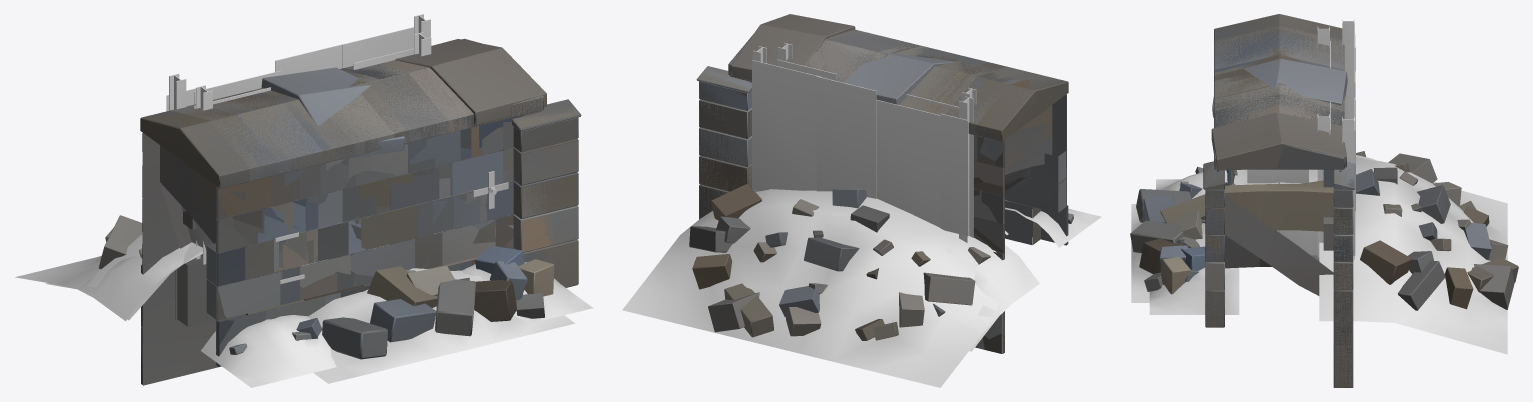
3 views of the same model, side by side, from view 1: azimuth 30°, elevation 25°; view 2: azimuth 150°, elevation 25°; view 3: azimuth 270°, elevation 25° (orthographic). The views are drawn at different scales.
Visible parts, largest first — view 1: PW_BW_coping_5p00_Stone_LOD1, PW_BW_breach_5p00_Stone_LOD1, PW_BW_collapse_5p00_Stone_LOD1, PW_BW_breach_5p00_Kit_LOD1, PW_BW_impact_5p00_sn_Stone_LOD1, PW_BW_fill_4p40_sn_Stone_LOD1, PW_BW_collapse_5p00_Kit_LOD1, PW_BW_fill_3p00_sn_Stone_LOD1, PW_BW_impact_5p00_Stone_LOD1, PW_BW_intact_b_5p00_Stone_LOD1, PW_BW_intact_a_5p00_Stone_LOD1, PW_BW_intact_c_5p00_Stone_LOD1 (+3 smaller); view 2: PW_BW_breach_5p00_Kit_LOD1, PW_BW_breach_5p00_Stone_LOD1, PW_BW_coping_5p00_Stone_LOD1, PW_BW_collapse_5p00_Stone_LOD1, PW_BW_collapse_5p00_Kit_LOD1, PW_BW_intact_a_5p00_Stone_LOD1, PW_BW_impact_5p00_Stone_LOD1, PW_BW_intact_c_5p00_Stone_LOD1, PW_BW_intact_b_5p00_Stone_LOD1, PW_BW_fill_4p40_sn_Stone_LOD1, PW_BW_fill_1p50_Stone_LOD1, PW_BW_impact_5p00_sn_Stone_LOD1 (+2 smaller); view 3: PW_BW_breach_5p00_Kit_LOD1, PW_BW_breach_5p00_Stone_LOD1, PW_BW_coping_5p00_Stone_LOD1, PW_BW_collapse_5p00_Stone_LOD1, PW_BW_impact_5p00_sn_Stone_LOD1, PW_BW_fill_1p50_Stone_LOD1, PW_BW_fill_4p40_sn_Stone_LOD1, PW_BW_impact_5p00_Stone_LOD1, PW_BW_repair_5p00_Stone_LOD1, PW_BW_collapse_5p00_Kit_LOD1, PW_BW_fill_3p00_sn_Stone_LOD1, PW_BW_intact_a_5p00_Stone_LOD1 (+2 smaller).
Boxes of the visible parts, left/top/right/bottom form: PW_BW_coping_5p00_Stone_LOD1: left=140, top=39, right=580, bottom=346; PW_BW_breach_5p00_Stone_LOD1: left=138, top=108, right=579, bottom=385; PW_BW_collapse_5p00_Stone_LOD1: left=98, top=110, right=578, bottom=366; PW_BW_breach_5p00_Kit_LOD1: left=15, top=14, right=593, bottom=387; PW_BW_impact_5p00_sn_Stone_LOD1: left=141, top=41, right=541, bottom=366; PW_BW_fill_4p40_sn_Stone_LOD1: left=222, top=39, right=543, bottom=311; PW_BW_collapse_5p00_Kit_LOD1: left=45, top=32, right=574, bottom=383; PW_BW_fill_3p00_sn_Stone_LOD1: left=330, top=40, right=542, bottom=260; PW_BW_impact_5p00_Stone_LOD1: left=142, top=40, right=577, bottom=366; PW_BW_intact_b_5p00_Stone_LOD1: left=141, top=40, right=578, bottom=377; PW_BW_intact_a_5p00_Stone_LOD1: left=142, top=65, right=578, bottom=353; PW_BW_intact_c_5p00_Stone_LOD1: left=142, top=75, right=543, bottom=335; PW_BW_breach_5p00_Kit_LOD1: left=622, top=46, right=1101, bottom=387; PW_BW_breach_5p00_Stone_LOD1: left=689, top=66, right=1073, bottom=352; PW_BW_coping_5p00_Stone_LOD1: left=699, top=14, right=1068, bottom=328; PW_BW_collapse_5p00_Stone_LOD1: left=696, top=66, right=1067, bottom=327; PW_BW_collapse_5p00_Kit_LOD1: left=777, top=43, right=1039, bottom=351; PW_BW_intact_a_5p00_Stone_LOD1: left=699, top=31, right=1049, bottom=229; PW_BW_impact_5p00_Stone_LOD1: left=699, top=38, right=1067, bottom=353; PW_BW_intact_c_5p00_Stone_LOD1: left=811, top=40, right=1066, bottom=353; PW_BW_intact_b_5p00_Stone_LOD1: left=701, top=39, right=1067, bottom=353; PW_BW_fill_4p40_sn_Stone_LOD1: left=729, top=30, right=1032, bottom=236; PW_BW_fill_1p50_Stone_LOD1: left=698, top=23, right=874, bottom=214; PW_BW_impact_5p00_sn_Stone_LOD1: left=729, top=29, right=1066, bottom=345; PW_BW_breach_5p00_Kit_LOD1: left=1149, top=19, right=1507, bottom=354; PW_BW_breach_5p00_Stone_LOD1: left=1144, top=151, right=1518, bottom=386; PW_BW_coping_5p00_Stone_LOD1: left=1204, top=14, right=1354, bottom=387; PW_BW_collapse_5p00_Stone_LOD1: left=1130, top=153, right=1461, bottom=326; PW_BW_impact_5p00_sn_Stone_LOD1: left=1214, top=14, right=1344, bottom=185; PW_BW_fill_1p50_Stone_LOD1: left=1203, top=105, right=1354, bottom=377; PW_BW_fill_4p40_sn_Stone_LOD1: left=1214, top=29, right=1344, bottom=171; PW_BW_impact_5p00_Stone_LOD1: left=1180, top=15, right=1352, bottom=289; PW_BW_repair_5p00_Stone_LOD1: left=1206, top=15, right=1352, bottom=326; PW_BW_collapse_5p00_Kit_LOD1: left=1131, top=26, right=1438, bottom=302; PW_BW_fill_3p00_sn_Stone_LOD1: left=1214, top=76, right=1344, bottom=171; PW_BW_intact_a_5p00_Stone_LOD1: left=1205, top=14, right=1352, bottom=327.
Size of the model in its own units: 5.92 by 4.32 by 6.3.
